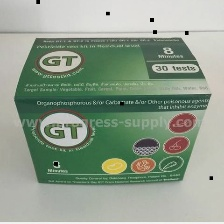book: (10, 35, 216, 188)
